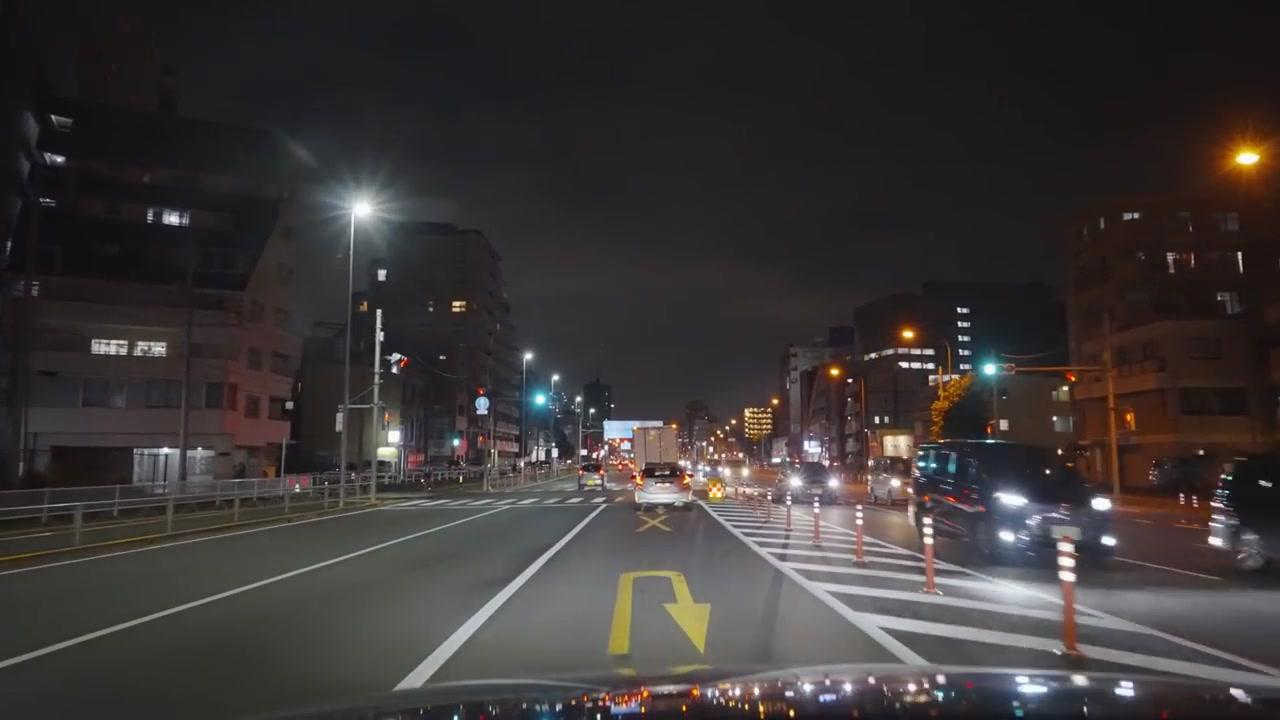car: (911, 437, 1118, 567), (1206, 454, 1280, 573), (1148, 454, 1223, 497), (772, 464, 842, 506), (634, 461, 691, 511), (868, 458, 915, 505), (691, 466, 728, 503), (578, 467, 605, 488)
traffic light: (978, 353, 1002, 383), (531, 387, 549, 414), (390, 354, 409, 374)
